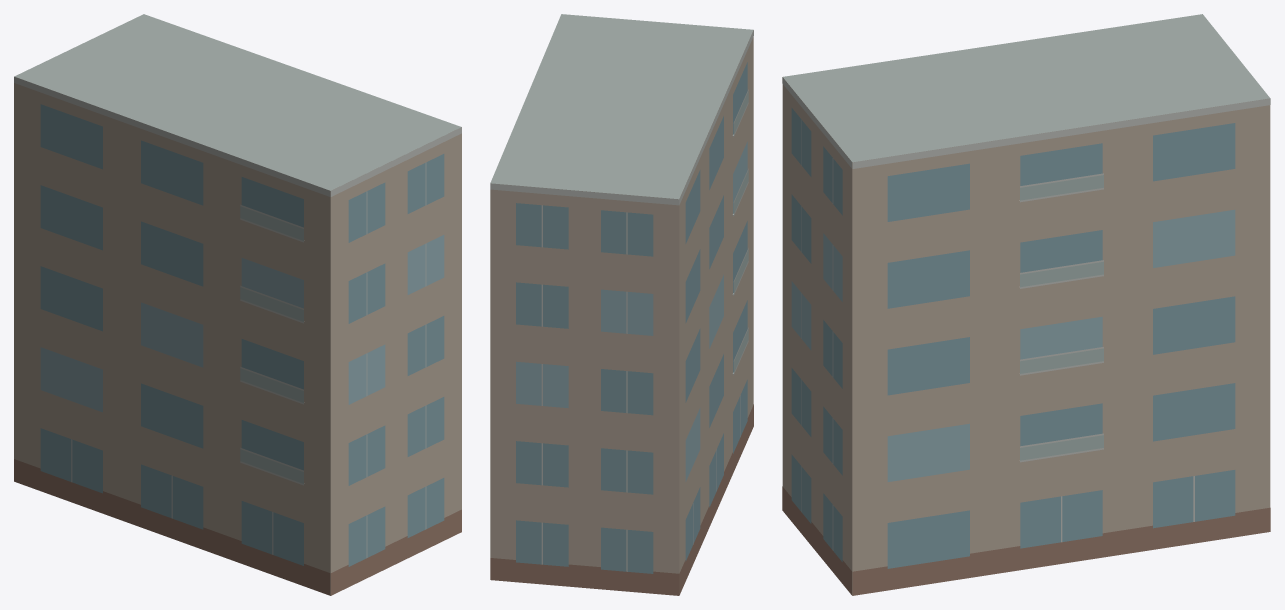
Rendered from survey-upis-32864000.glb.
The picture shows the model from 3 angles, left to right: view 1: azimuth 30°, elevation 25°; view 2: azimuth 150°, elevation 25°; view 3: azimuth 270°, elevation 25°; orthographic projection. The views are drawn at different scales.
Visible parts, largest first — view 1: survey-upis-32864000.tmp; view 2: survey-upis-32864000.tmp; view 3: survey-upis-32864000.tmp.
Part boxes in pixels (<box>): survey-upis-32864000.tmp: <box>14,14,461,595</box>; survey-upis-32864000.tmp: <box>490,14,753,595</box>; survey-upis-32864000.tmp: <box>782,14,1270,595</box>.
Size of the model in its own units: 11.49 by 15.64 by 15.97.
